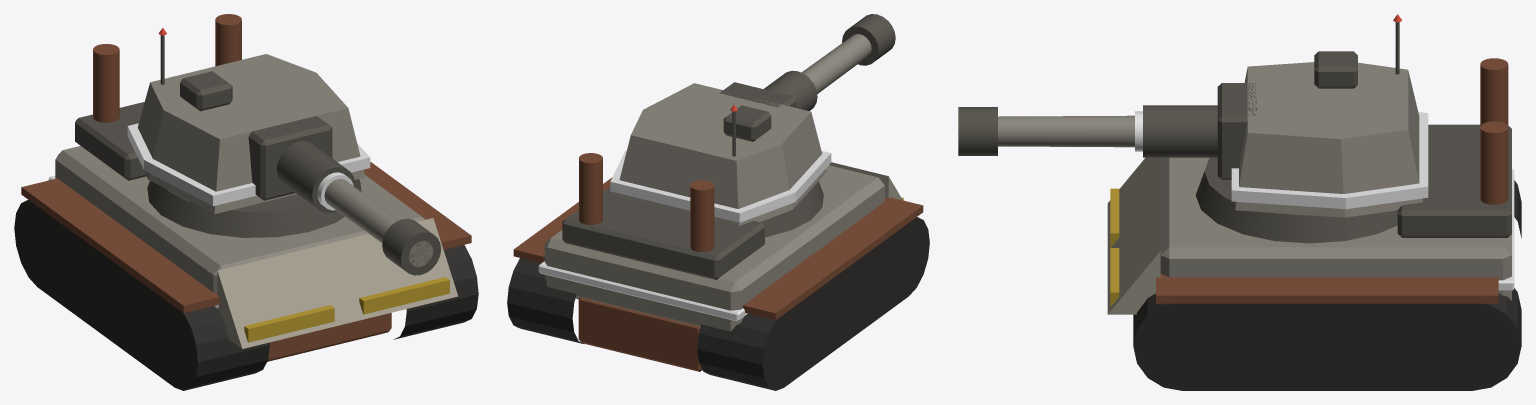
3 views of the same model, side by side, from view 1: azimuth 30°, elevation 25°; view 2: azimuth 150°, elevation 25°; view 3: azimuth 270°, elevation 25° (orthographic). The views are drawn at different scales.
Visible parts, largest first — view 1: dweller_robot_sentinel; view 2: dweller_robot_sentinel; view 3: dweller_robot_sentinel.
Boxes of the visible parts, bbox=[...] form: dweller_robot_sentinel: bbox=[14, 14, 478, 390]; dweller_robot_sentinel: bbox=[507, 14, 929, 390]; dweller_robot_sentinel: bbox=[958, 14, 1521, 390].
Size of the model in its own units: 4 by 3.5 by 6.41.
